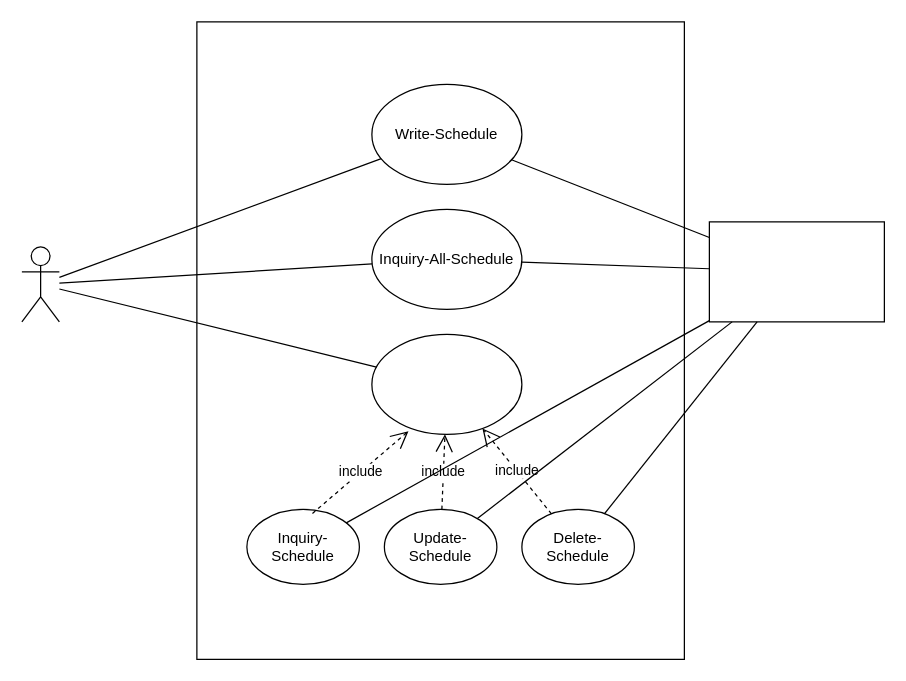
Some shapes in this 906 by 681 pixel diagram are drawn without their labels. Each missing label, with the centre of its shape:
"<<actor>> Schedule management Service" belongs at point (796, 271).
"Actor" belongs at point (40, 284).
"Select-Schedule" belongs at point (446, 383).
